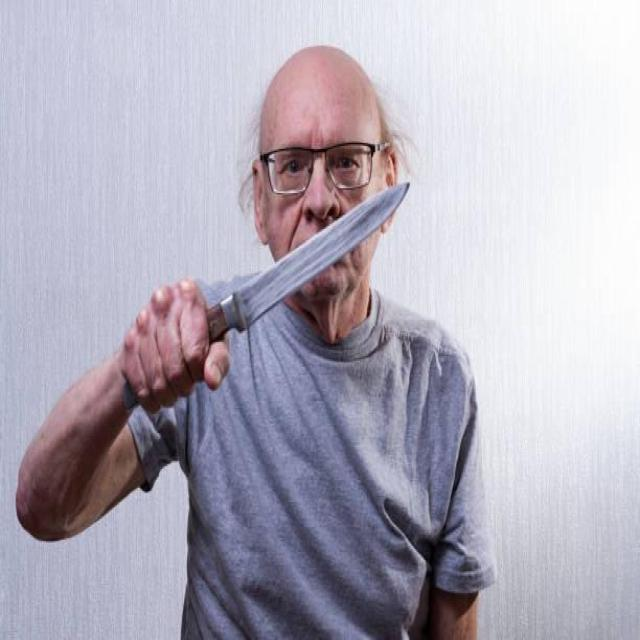faca: (118, 164, 426, 398)
